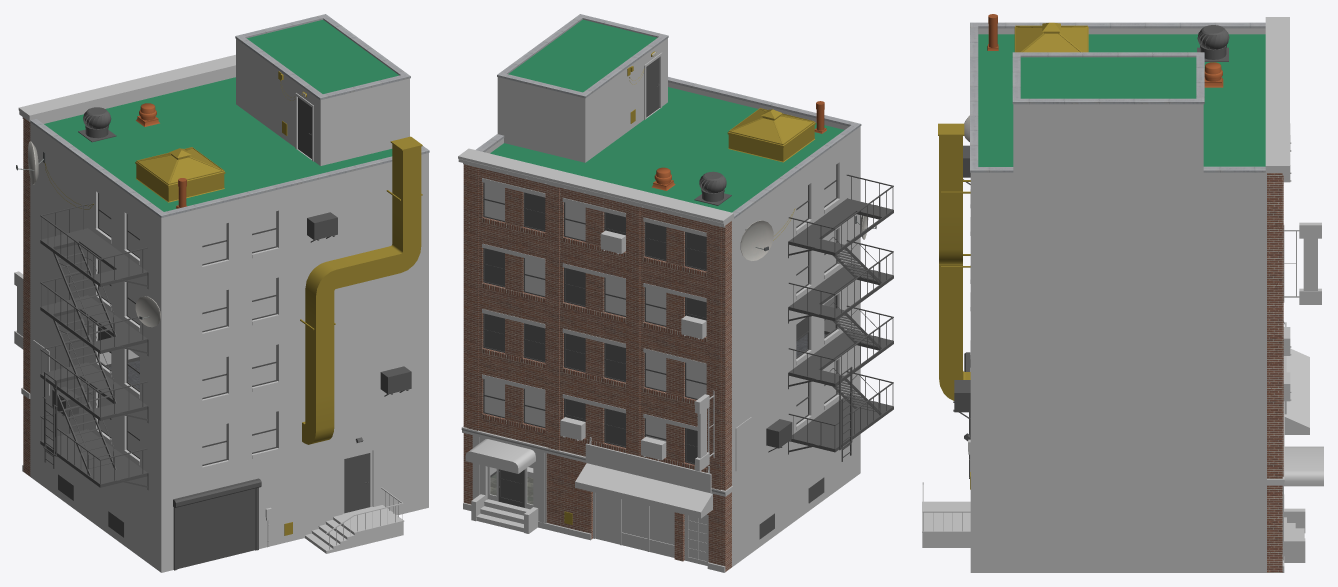
The model's file is mcp_building_05_LOD_0.FBX.
3 views of the same model, side by side, from view 1: azimuth 30°, elevation 25°; view 2: azimuth 150°, elevation 25°; view 3: azimuth 270°, elevation 25° (orthographic). The views are drawn at different scales.
Visible parts, largest first — view 1: mcp_building_05_walls_02, mcp_building_05_props_01, mcp_building_05_roof, mcp_building_05_01, mcp_building_05_props_02, mcp_building_05_metal, mcp_building_05_brick_01, mcp_building_05_02, mcp_building_05_door_03, mcp_satellite_dish, mcp_building_05_door_02, mcp_building_05_props_03 (+2 smaller); view 2: mcp_building_05_brick_01, mcp_building_05_walls_02, mcp_building_05_01, mcp_building_05_roof, mcp_building_05_props_01, mcp_building_05_windows_01, mcp_building_05_windows_02, mcp_building_05_metal, mcp_building_05_props_02, mcp_building_05_illumination, mcp_building_05_02, mcp_satellite_dish (+4 smaller); view 3: mcp_building_05_walls_02, mcp_building_05_roof, mcp_building_05_01, mcp_building_05_props_02, mcp_building_05_metal, mcp_building_05_brick_01, mcp_building_05_illumination, mcp_building_05_props_01, mcp_building_05_props_03, mcp_building_05_air_vent_01.
Boxes of the visible parts, box(x1,y1,x2,y2) form: mcp_building_05_walls_02: box(30, 39, 428, 572); mcp_building_05_props_01: box(40, 204, 411, 570); mcp_building_05_roof: box(44, 20, 398, 211); mcp_building_05_01: box(18, 54, 404, 553); mcp_building_05_props_02: box(44, 71, 422, 535); mcp_building_05_metal: box(30, 14, 429, 217); mcp_building_05_brick_01: box(23, 117, 30, 476); mcp_building_05_02: box(98, 193, 277, 465); mcp_building_05_door_03: box(344, 453, 370, 513); mcp_satellite_dish: box(16, 141, 160, 327); mcp_building_05_door_02: box(298, 97, 311, 158); mcp_building_05_props_03: box(136, 103, 186, 208); mcp_building_05_brick_01: box(463, 164, 731, 571); mcp_building_05_walls_02: box(485, 38, 860, 566); mcp_building_05_01: box(458, 52, 839, 572); mcp_building_05_roof: box(490, 19, 844, 212); mcp_building_05_props_01: box(759, 174, 893, 539); mcp_building_05_windows_01: box(564, 202, 706, 467); mcp_building_05_windows_02: box(484, 183, 706, 426); mcp_building_05_metal: box(476, 14, 861, 218); mcp_building_05_props_02: box(564, 51, 815, 524); mcp_building_05_illumination: box(622, 394, 709, 561); mcp_building_05_02: box(483, 164, 837, 477); mcp_satellite_dish: box(740, 215, 876, 260); mcp_building_05_walls_02: box(970, 28, 1266, 572); mcp_building_05_roof: box(978, 34, 1265, 166); mcp_building_05_01: box(922, 17, 1323, 572); mcp_building_05_props_02: box(938, 22, 1088, 489); mcp_building_05_metal: box(970, 22, 1265, 172); mcp_building_05_brick_01: box(1267, 173, 1283, 572); mcp_building_05_illumination: box(1299, 222, 1321, 304); mcp_building_05_props_01: box(953, 145, 970, 478); mcp_building_05_props_03: box(987, 14, 1223, 87); mcp_building_05_air_vent_01: box(1197, 25, 1229, 52).
Bounding box in the file's own units: 1772 × 1712 × 2217.
